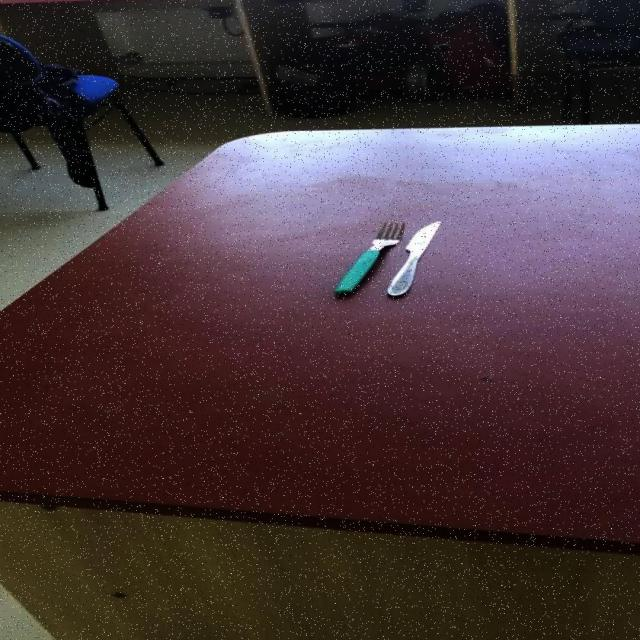Fork: (331, 220, 404, 295)
Knife: (384, 220, 442, 296)
